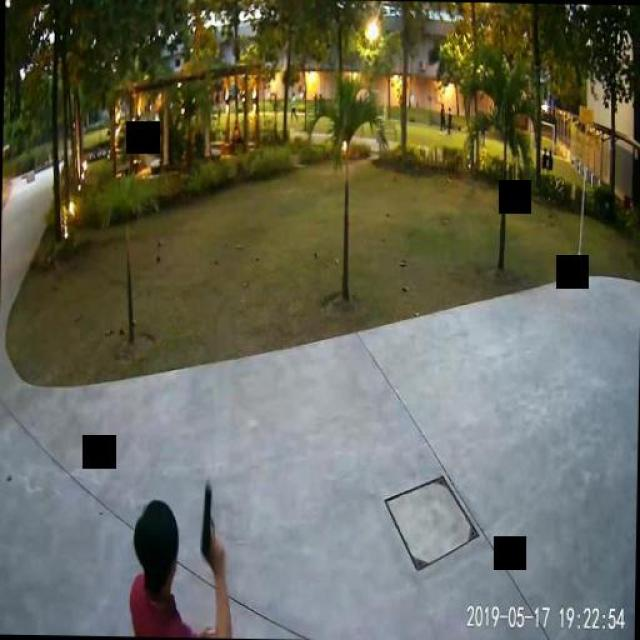gun: (199, 482, 226, 560)
